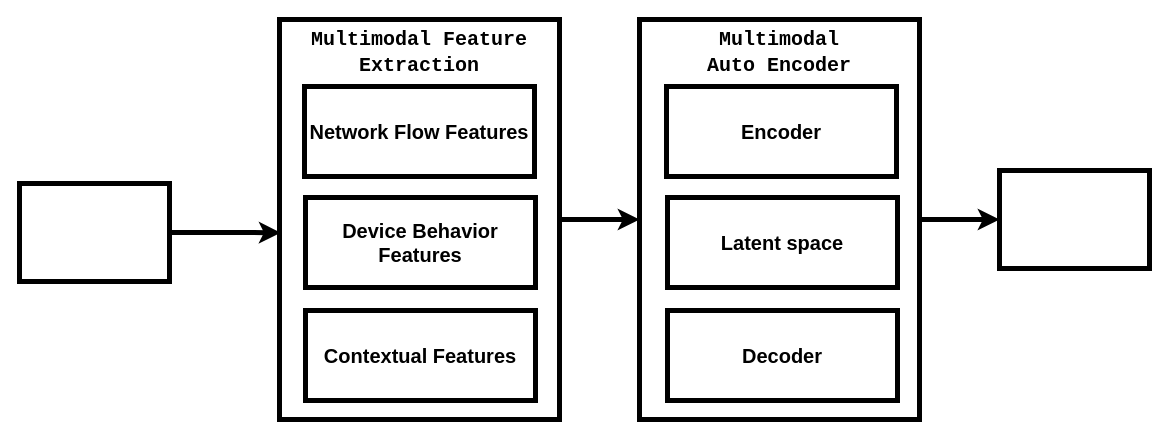
The diagram is 1169 pixels wide and 439 high, and some of its shapes have lost their labels. The centre of each missing label's shape, as x and y in pixels:
"Attack Classification" goes at point 1074,219.
"Encrypted IoT Traffic Input" goes at point 94,232.
